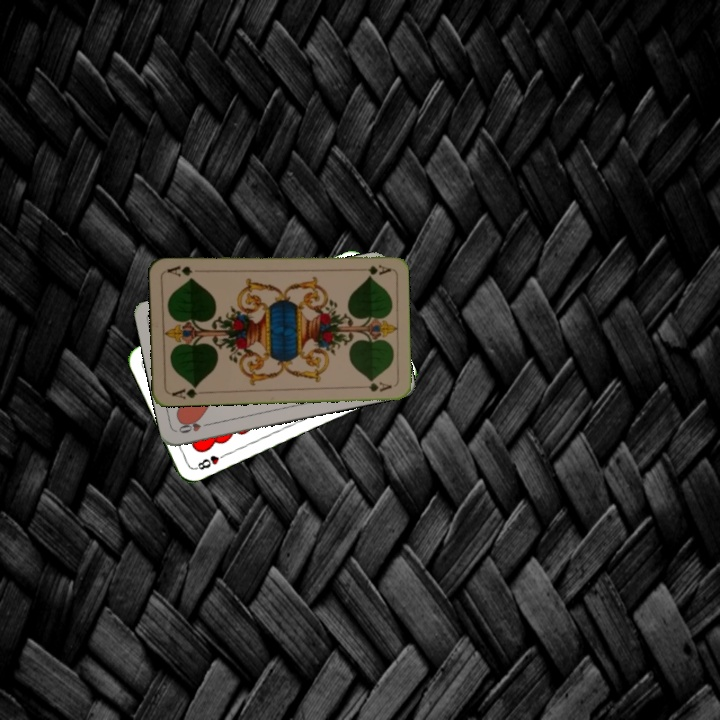GA: (168, 381, 200, 401), (352, 261, 392, 275)
H8: (191, 449, 230, 472)
HO: (175, 417, 214, 436)
